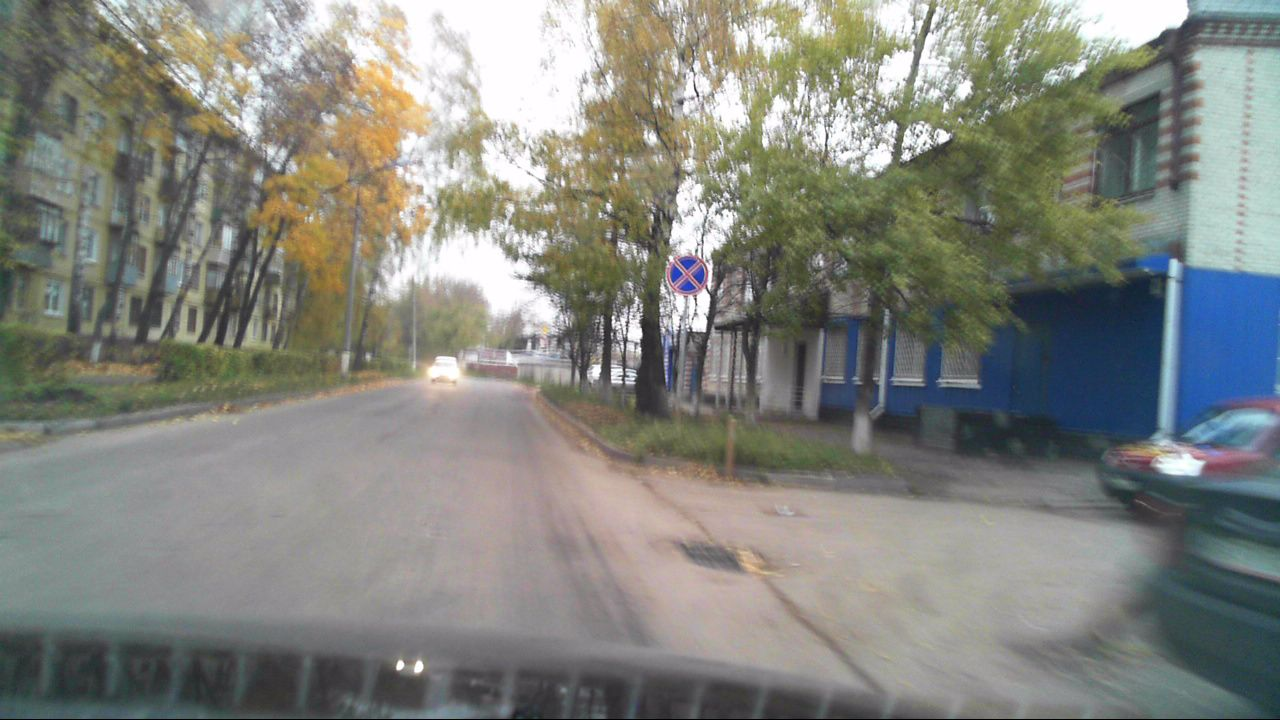No Parking: (666, 253, 708, 295)
